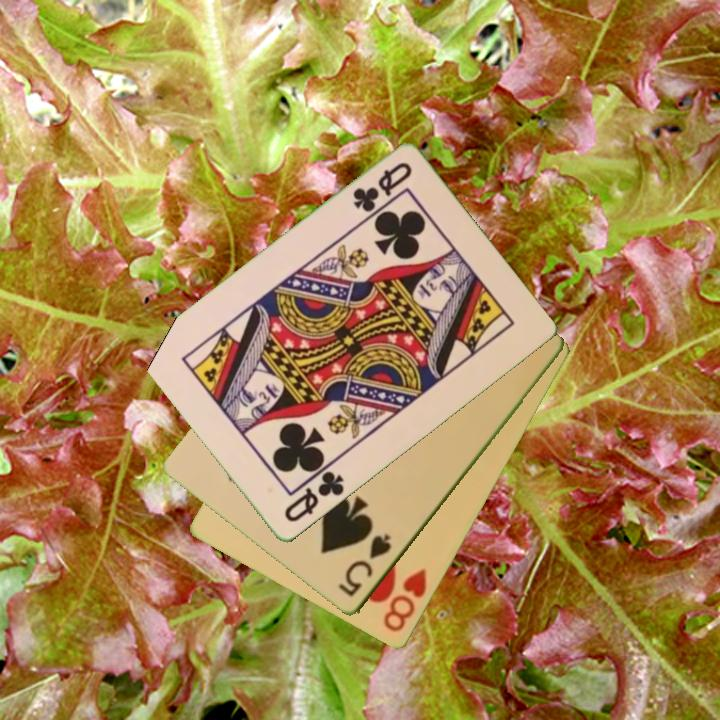5s: (335, 530, 395, 601)
8h: (379, 565, 430, 636)
Qc: (280, 467, 348, 526), (349, 159, 416, 217)
